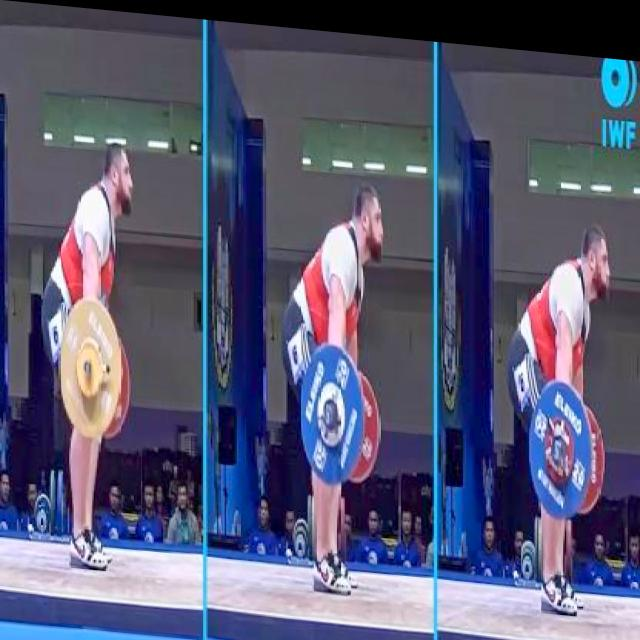barbell: (51, 289, 126, 448), (526, 362, 598, 517), (293, 332, 365, 484)
